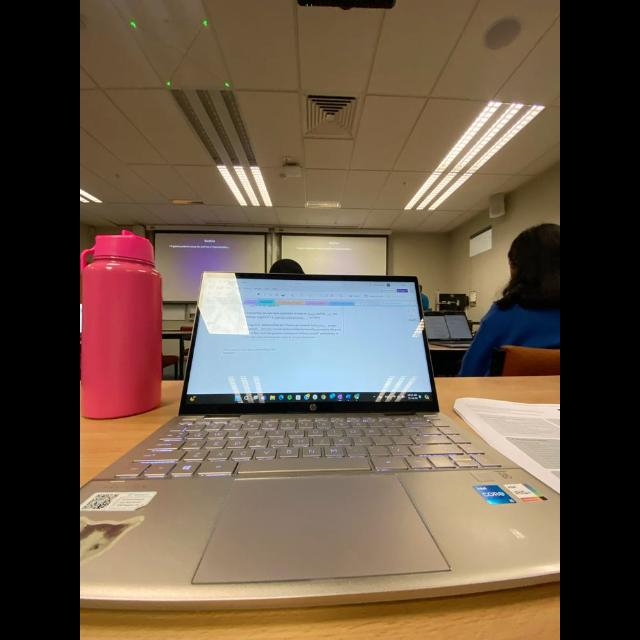laptop: (80, 271, 560, 607)
